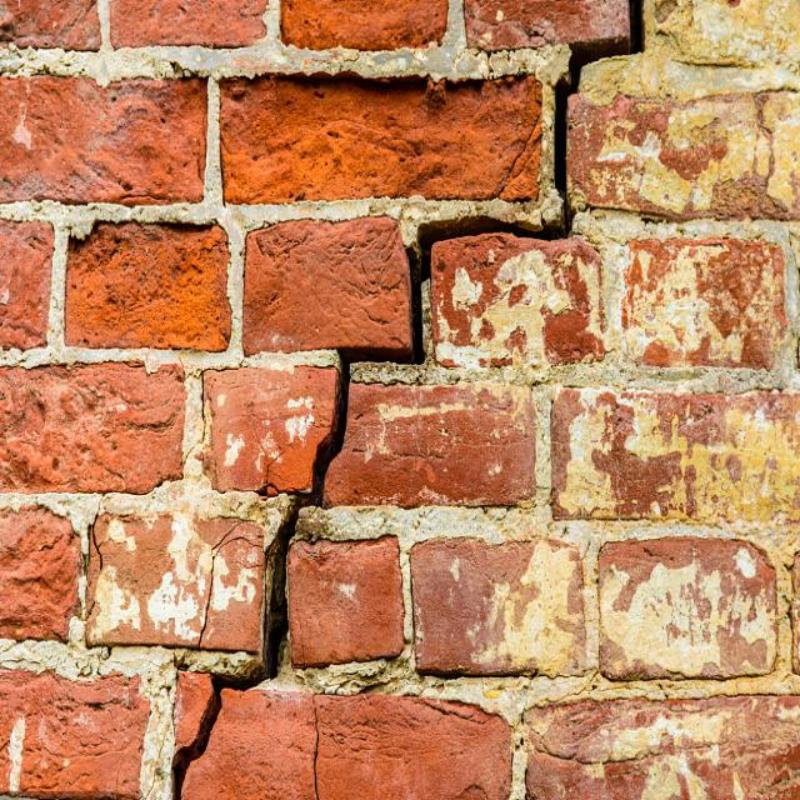pothole: (308, 1, 643, 507), (175, 495, 308, 799), (198, 520, 242, 649), (200, 360, 245, 422), (311, 695, 320, 799), (217, 536, 263, 555), (92, 511, 103, 571)
